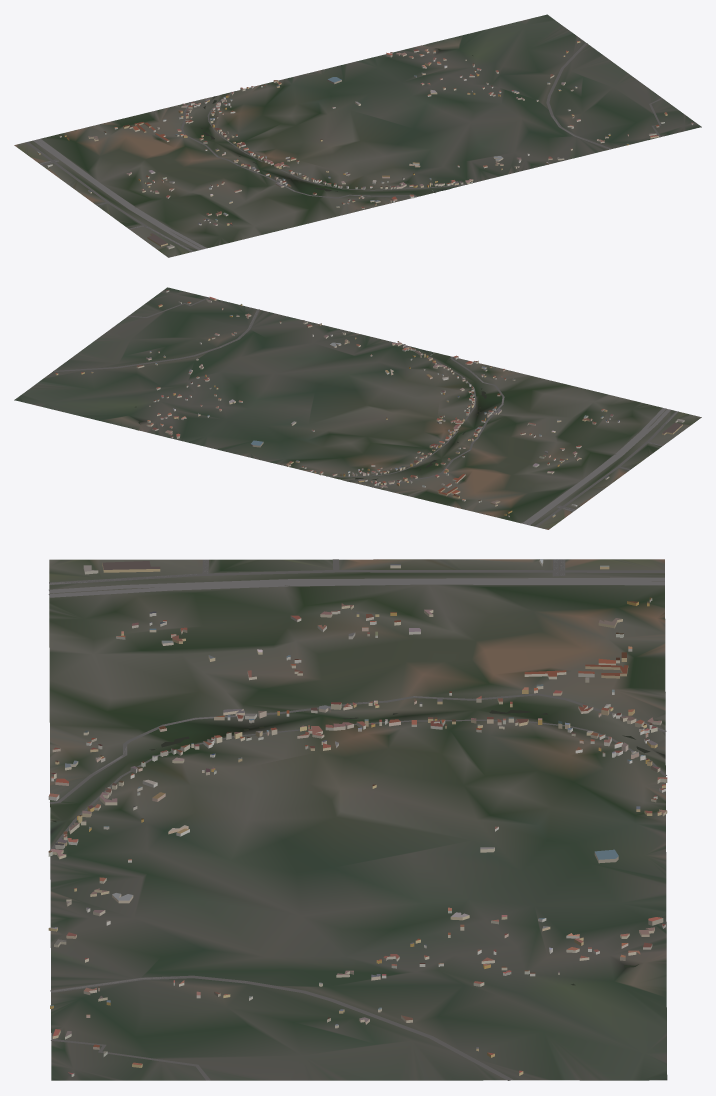
3 views of the same model, one above another, from view 1: azimuth 30°, elevation 25°; view 2: azimuth 150°, elevation 25°; view 3: azimuth 270°, elevation 25° (orthographic). The views are drawn at different scales.
Visible parts, largest first — view 1: ground, buildings, roads; view 2: ground, buildings, roads; view 3: ground, buildings, roads.
Boxes of the visible parts, left/top/right/bottom form: ground: left=14, top=14, right=701, bottom=257; buildings: left=37, top=41, right=693, bottom=249; roads: left=26, top=43, right=662, bottom=251; ground: left=14, top=287, right=701, bottom=529; buildings: left=55, top=290, right=684, bottom=517; roads: left=53, top=297, right=678, bottom=526; ground: left=49, top=559, right=667, bottom=1080; buildings: left=48, top=559, right=667, bottom=1076; roads: left=48, top=559, right=666, bottom=1080.
Bounding box in the file's own units: 2811 × 22.99 × 1408.
